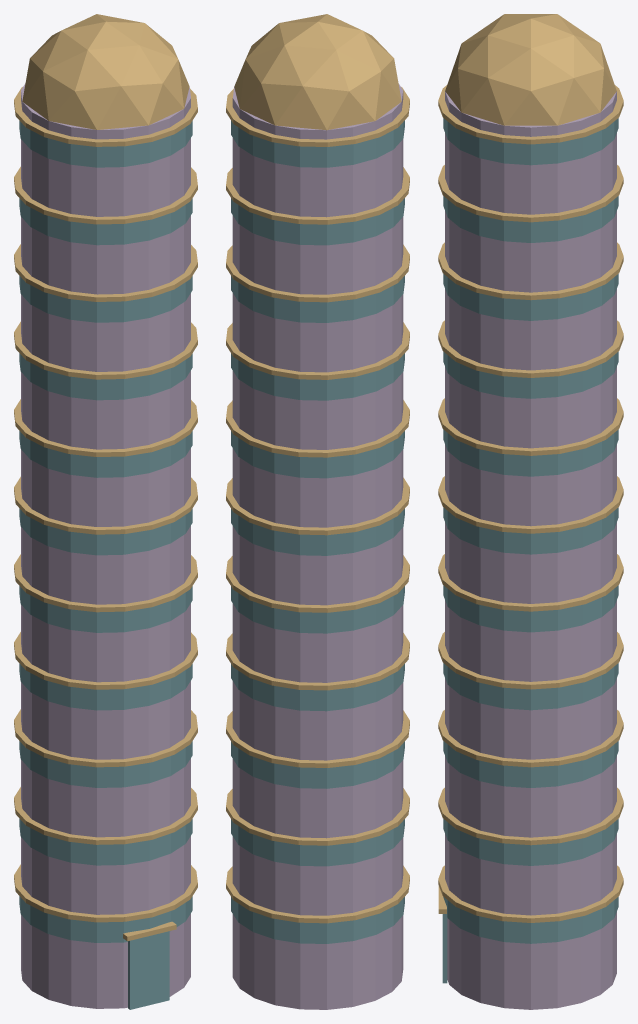
3 renders of one model, left to right at view 1: azimuth 30°, elevation 25°; view 2: azimuth 150°, elevation 25°; view 3: azimuth 270°, elevation 25°, orthographic.
Visible parts, largest first — view 1: RC-003 Domed ribbon tower batched; view 2: RC-003 Domed ribbon tower batched; view 3: RC-003 Domed ribbon tower batched.
Boxes of the visible parts, left/top/right/bottom form: RC-003 Domed ribbon tower batched: left=14, top=14, right=197, bottom=1009; RC-003 Domed ribbon tower batched: left=226, top=14, right=409, bottom=1009; RC-003 Domed ribbon tower batched: left=438, top=14, right=623, bottom=1009.
Size of the model in its own units: 6.48 by 36.8 by 6.48.
